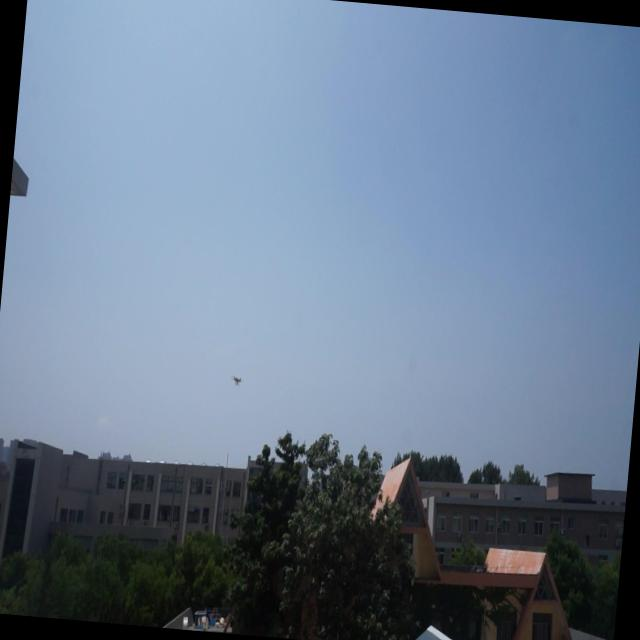drone: (232, 370, 244, 390)
